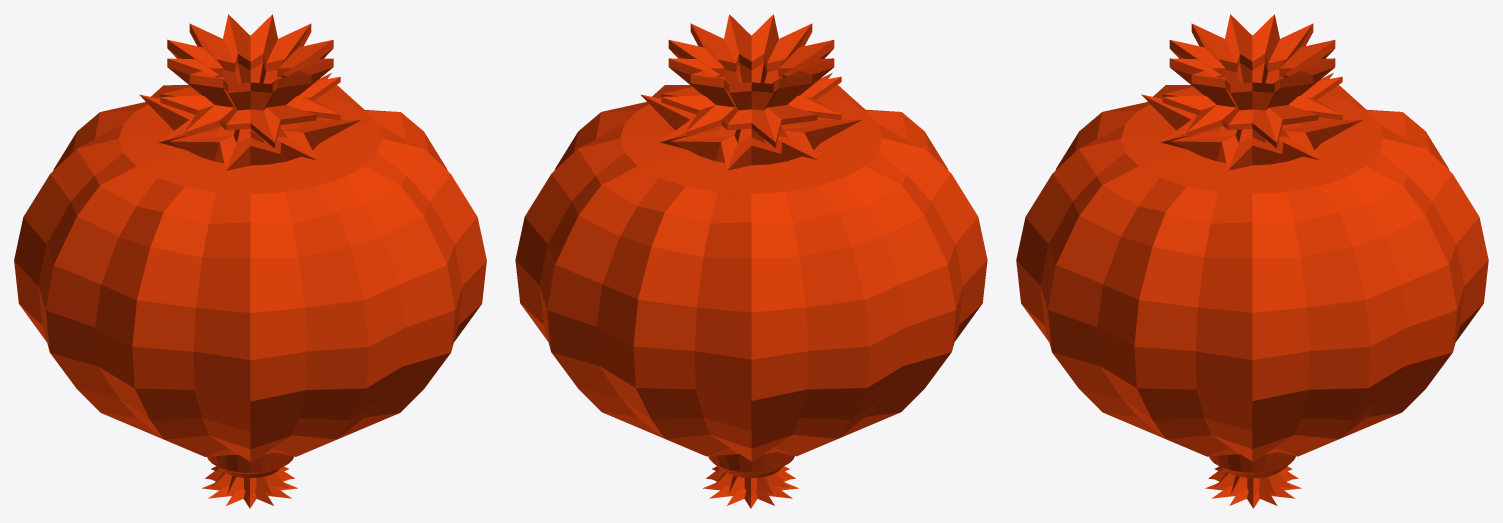
File: heartalive.idle.fbx
3 views of the same model, side by side, from view 1: azimuth 30°, elevation 25°; view 2: azimuth 150°, elevation 25°; view 3: azimuth 270°, elevation 25° (orthographic).
Visible parts, largest first — view 1: heartalive.idle.001; view 2: heartalive.idle.001; view 3: heartalive.idle.001.
Part boxes in pixels (left/top/right/bottom): heartalive.idle.001: left=14, top=14, right=486, bottom=508; heartalive.idle.001: left=515, top=14, right=987, bottom=508; heartalive.idle.001: left=1016, top=14, right=1488, bottom=508.
Bounding box in the file's own units: 670 × 688 × 670.
